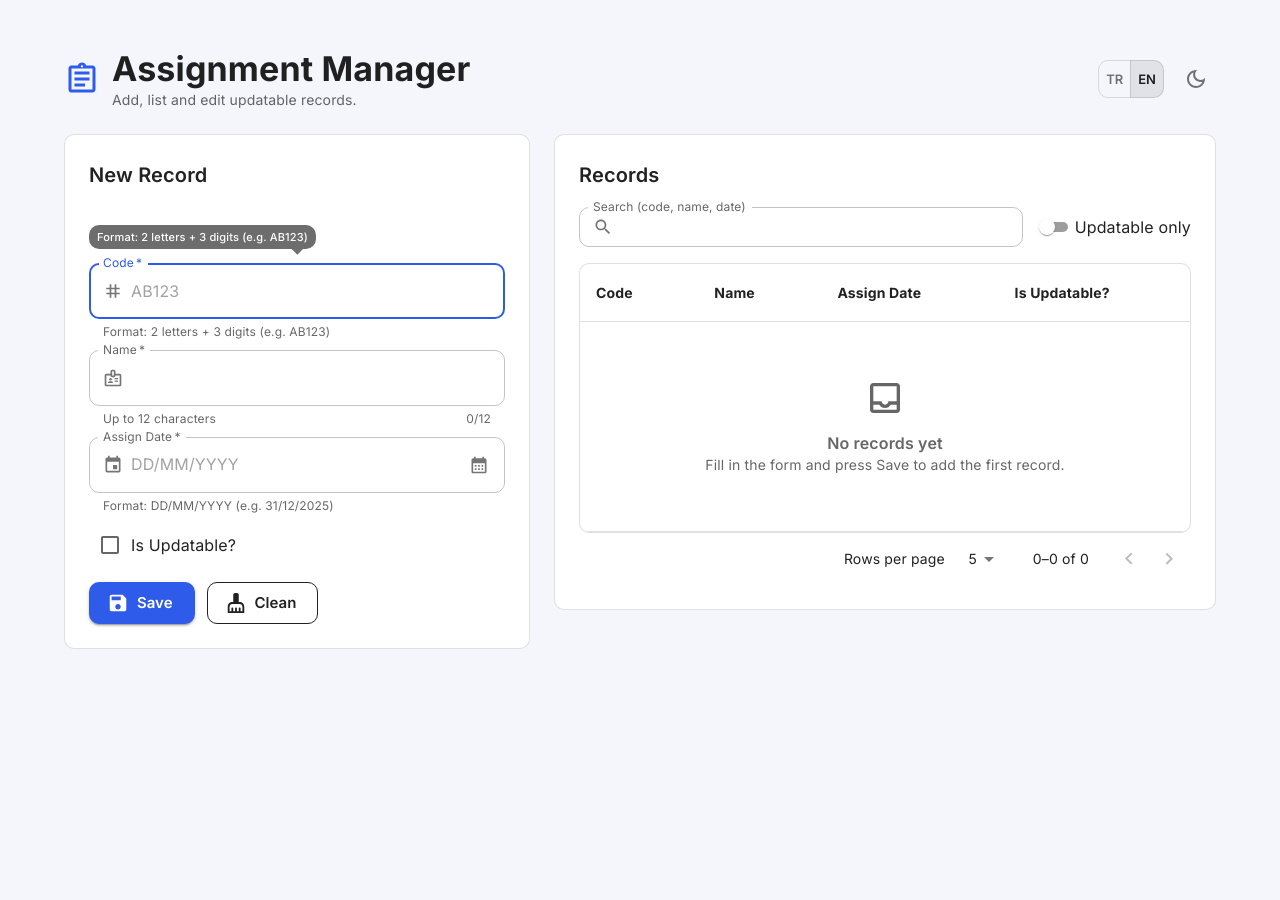
Test: Assignment Manager — spec scenarios › E1: Save fills the datagrid (date shown as DD/MM/YYYY)
Type "ab123" into the field labelled "Code *" at (318,291), box [131,263,505,319]
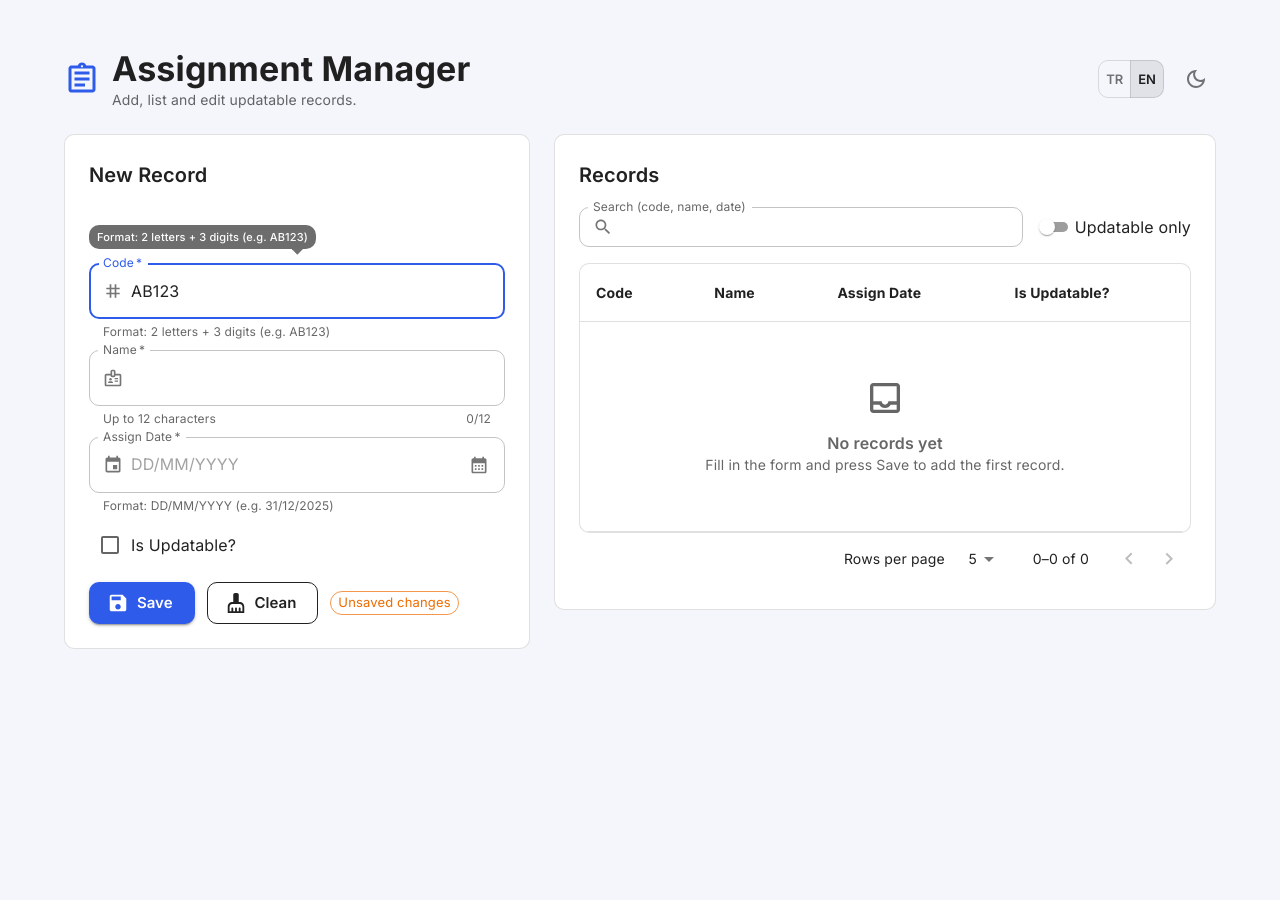
Type "Ahmet" into the field labelled "Name *" at (318,378), box [131,350,505,406]
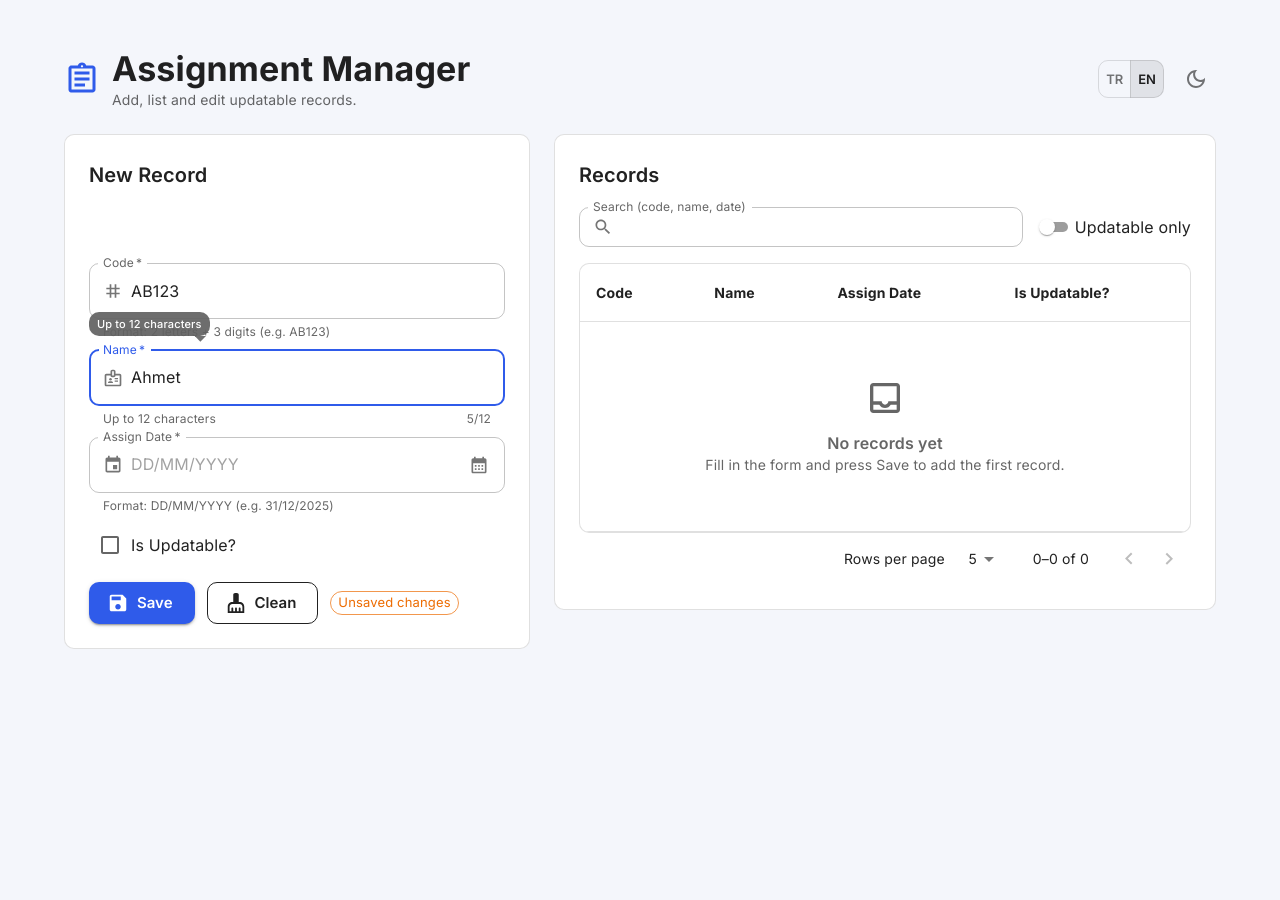
Type "14032025" into the field labelled "Assign Date *" at (294,465), box [131,437,456,493]
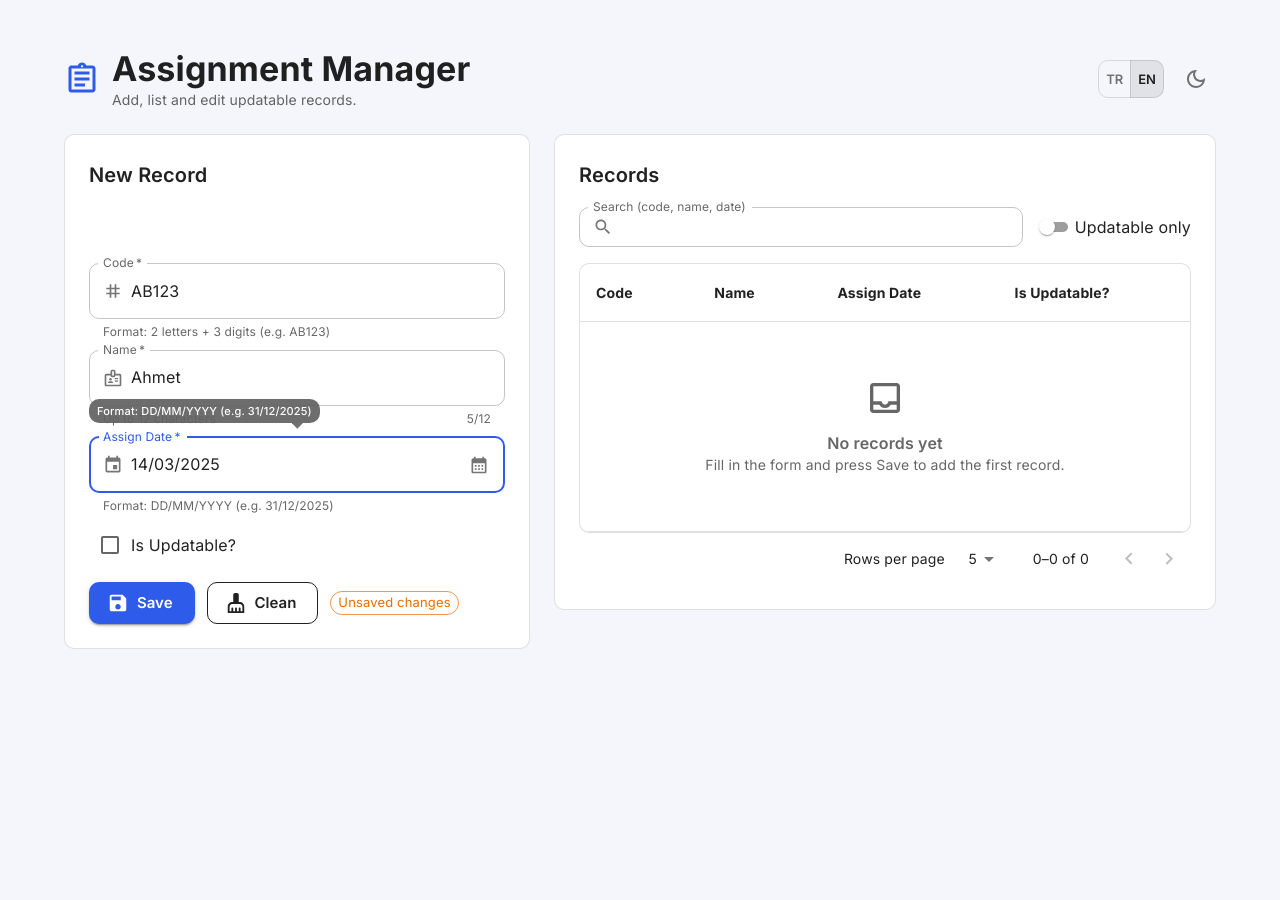
Click the checkbox labelled "Is Updatable?" at (167,545), box [98,533,236,557]
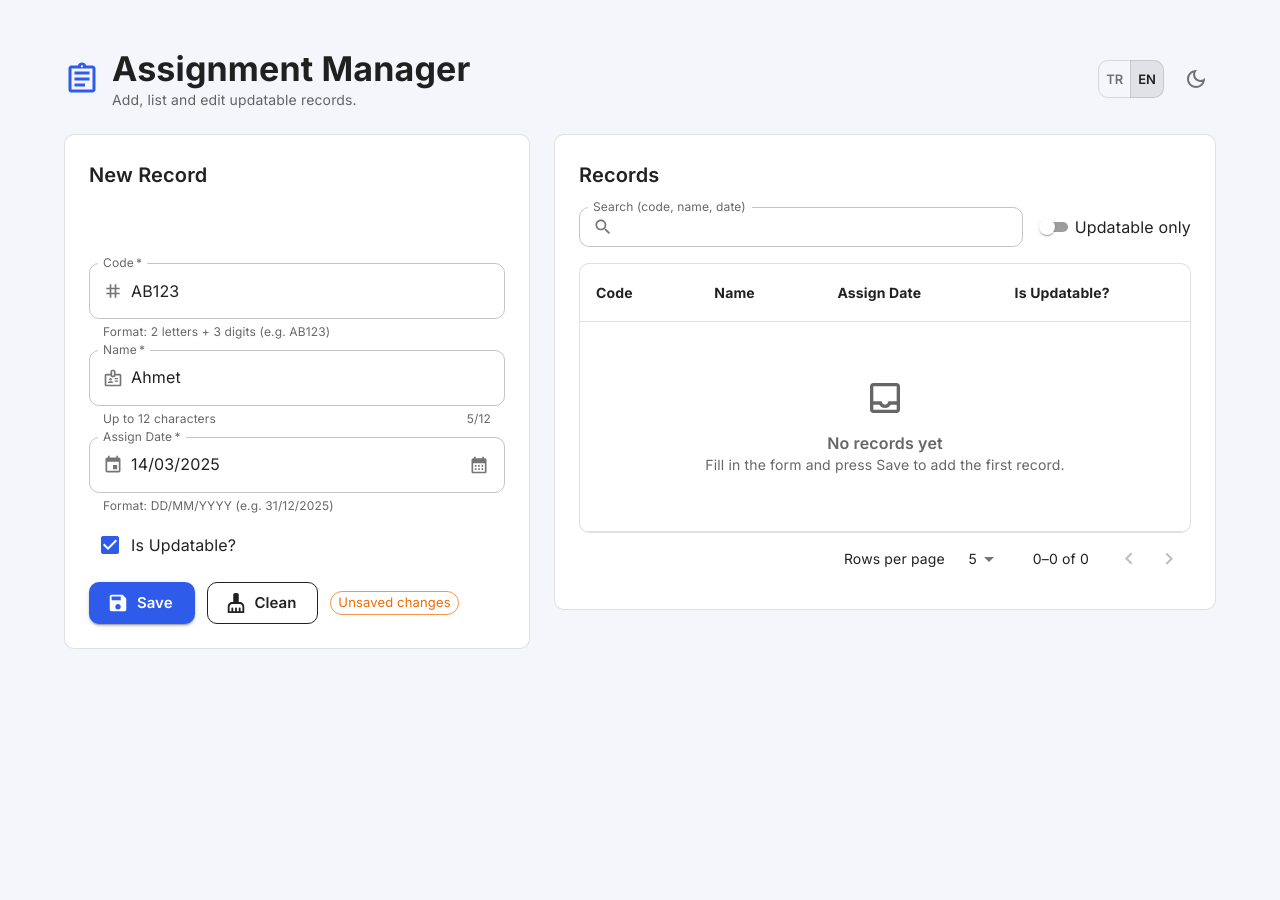
Click the button "Save" at (142,603), box [89,582,194,624]
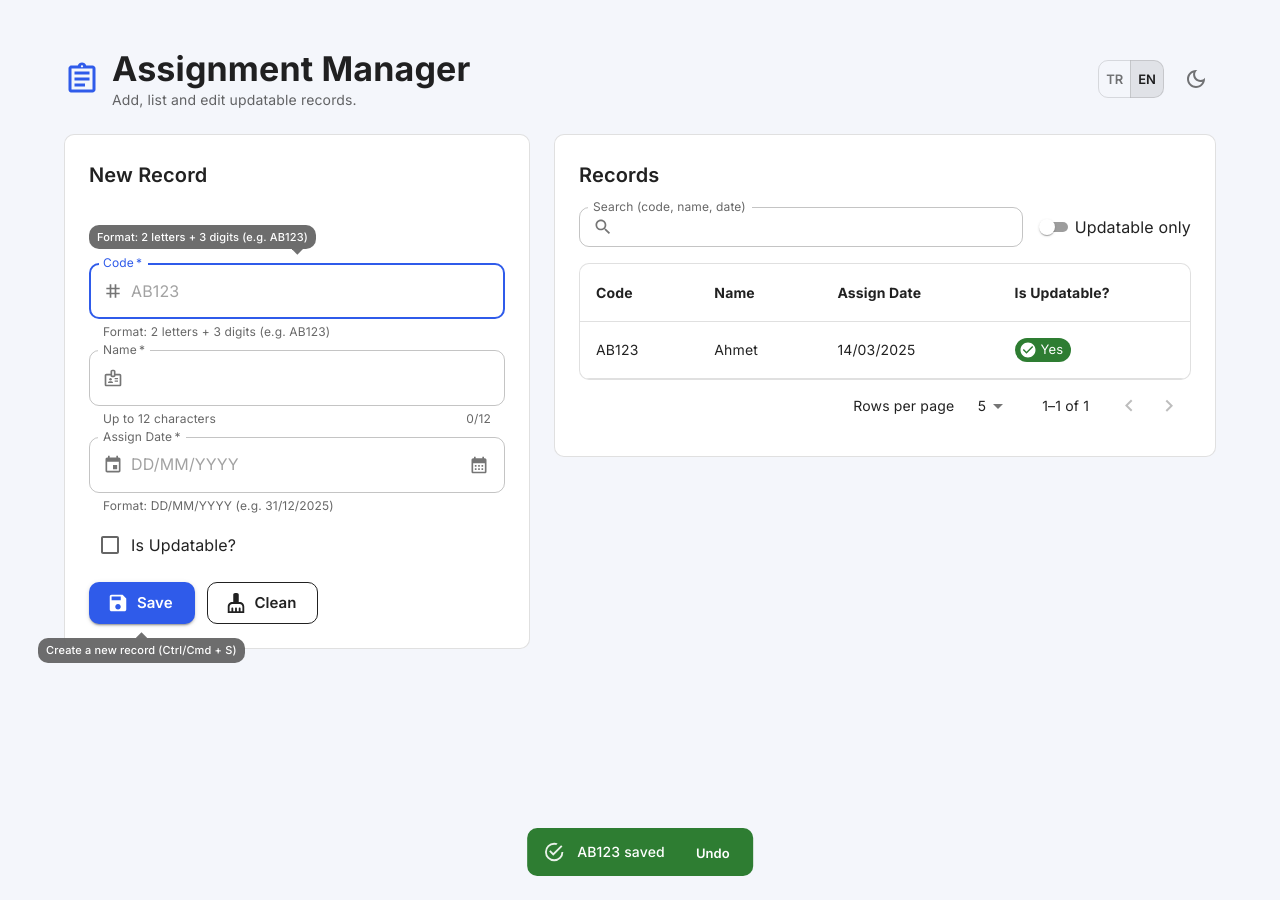
Now the text "Ahmet" is shown, box [698,322,821,379]
Now the text "14/03/2025" is shown, box [821,322,999,379]
